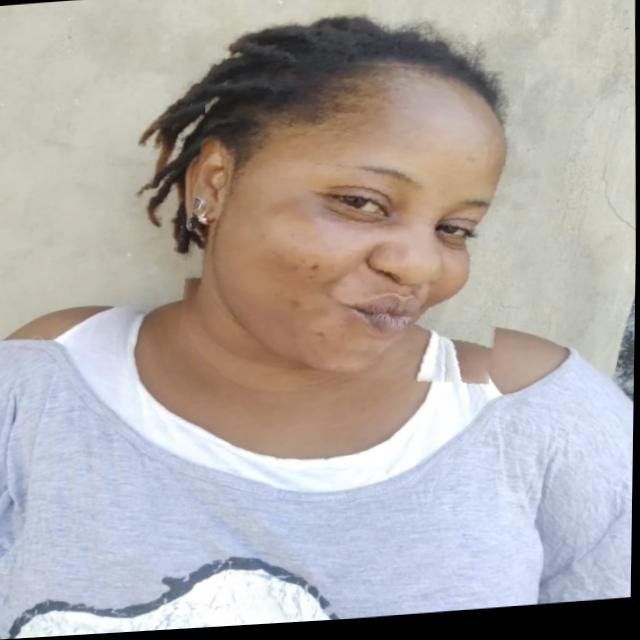happy: (178, 49, 522, 401)
